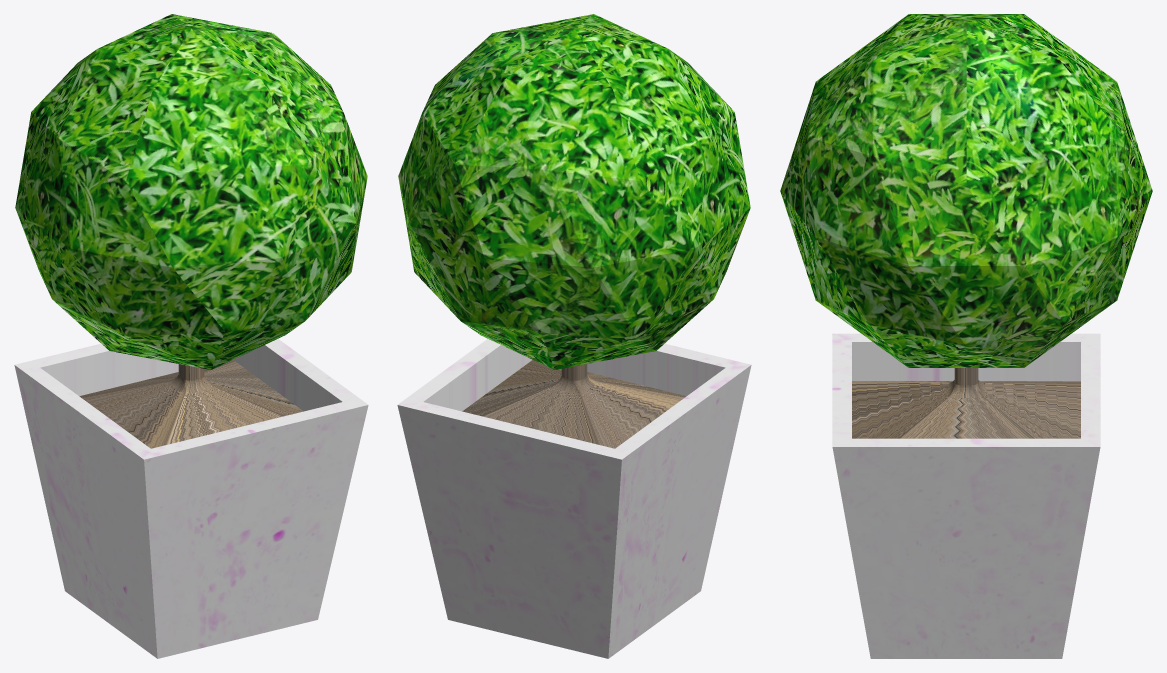
File: topiary_pot.glb
The picture shows the model from 3 angles, left to right: view 1: azimuth 30°, elevation 25°; view 2: azimuth 150°, elevation 25°; view 3: azimuth 270°, elevation 25°; orthographic projection. The views are drawn at different scales.
Parts seen in each view (by area): view 1: Object_8, Object_6, Object_4; view 2: Object_8, Object_6, Object_4; view 3: Object_8, Object_6, Object_4.
Boxes of the visible parts, x1,y1,x2,y2 form: Object_8: (15,14,367,369); Object_6: (14,339,368,658); Object_4: (79,360,303,448); Object_8: (398,14,750,369); Object_6: (397,339,751,658); Object_4: (462,360,686,448); Object_8: (780,14,1152,367); Object_6: (832,333,1100,658); Object_4: (852,368,1080,438).
Size of the model in its own units: 4.3 by 7.99 by 4.53.
3 materials, 3 textured.
